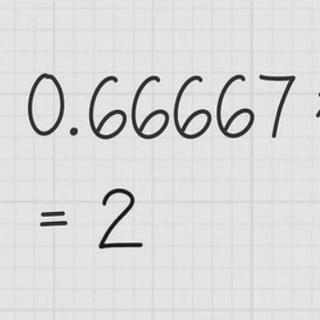.: (67, 119, 85, 138)
0: (27, 68, 67, 144)
2: (94, 186, 147, 251)
6: (125, 68, 170, 137), (87, 68, 128, 142), (215, 71, 258, 141), (173, 73, 213, 140)
7: (256, 67, 295, 144)
